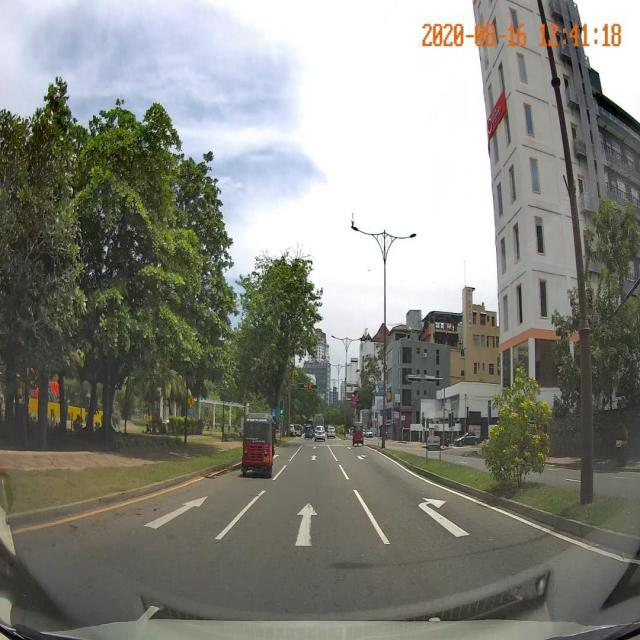Strelka vpered: (143, 495, 209, 529), (295, 502, 318, 546)
Strelka vpravo: (419, 498, 470, 538)
